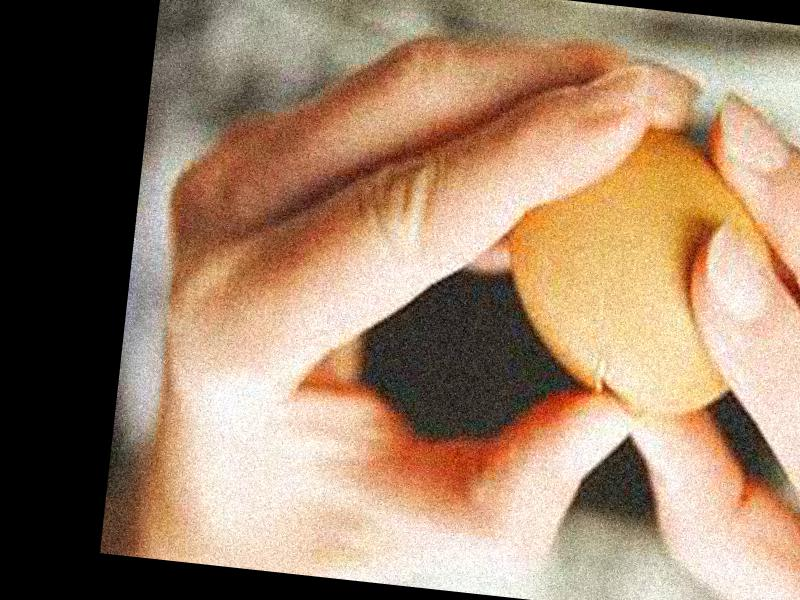Eggs: (493, 110, 788, 429)
